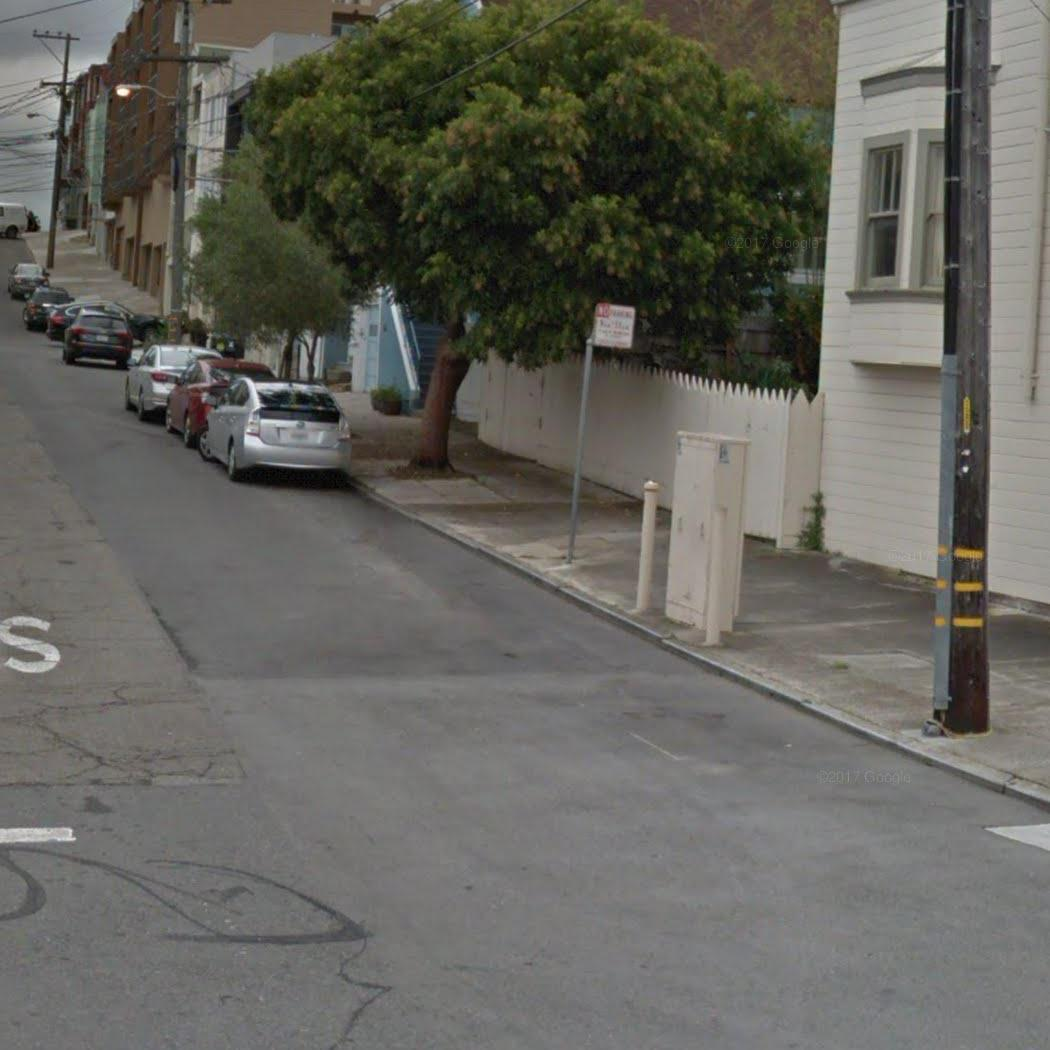No Parking: (591, 300, 637, 352)
